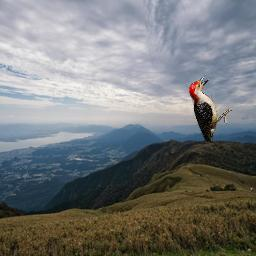Woodpecker: (189, 74, 234, 142)
